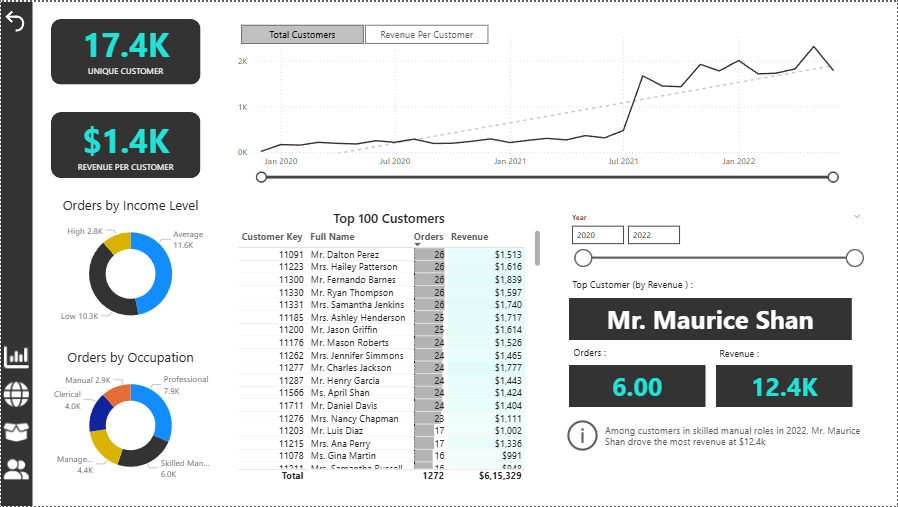

This screenshot's page, from the dashboard's own definition file:
{"tool":"powerbi","page":{"name":"Customer Detail","canvas":[1280,720],"ordinal":3},"visuals":[{"type":"shape","box":[0,0,45,720],"z":0},{"type":"actionButton","box":[0,485,61.2,43.8],"z":0,"group":"g1"},{"type":"shape","box":[71.8,24.5,213.6,93.6],"z":1000},{"type":"actionButton","box":[0,538.3,61.2,43.8],"z":1000,"group":"g1"},{"type":"card","fields":{"Values":["Measure Table.Total Customers"]},"box":[58.2,0,239.1,133.6],"z":2000},{"type":"actionButton","box":[0,591.7,61.2,43.8],"z":2000,"group":"g1"},{"type":"lineChart","title":"Yearly Customer","fields":{"Y":["Measure Table.Total Customers"],"Category":["Calendar Lookup.Start of Month.Variation.Date Hierarchy.Year","Calendar Lookup.Start of Month.Variation.Date Hierarchy.Quarter","Calendar Lookup.Start of Month.Variation.Date Hierarchy.Month","Calendar Lookup.Start of Month.Variation.Date Hierarchy.Day"]},"box":[332.5,37.5,885,223.8],"z":3000},{"type":"actionButton","box":[0,645,61.2,43.8],"z":3000,"group":"g1"},{"type":"donutChart","title":"Orders by Income Level","fields":{"Category":["Customer Lookup.Income Level"],"Y":["Measure Table.Total Orders"]},"box":[65,277.5,238.8,197.5],"z":4000},{"type":"donutChart","title":"Orders by Occupation","fields":{"Y":["Measure Table.Total Orders"],"Category":["Customer Lookup.Occupation"]},"box":[66.2,493.8,238.8,196.2],"z":5000},{"type":"tableEx","title":"Top 100 Customers","fields":{"Values":["Customer Lookup.CustomerKey","Customer Lookup.Full Name","Measure Table.Total Orders","Measure Table.Total Revenue"]},"box":[332.9,295.7,442.9,394.3],"z":6000},{"type":"shape","box":[71.8,157.3,213.6,94.5],"z":7000},{"type":"card","fields":{"Values":["Measure Table.Average Revenue Per Customer"]},"box":[52.7,130.9,250.9,146.4],"z":8000},{"type":"card","fields":{"Values":["Measure Table.Full Name (Customer Detail)"]},"box":[811.9,422.9,403.8,60],"z":9000},{"type":"card","fields":{"Values":["Measure Table.Total Orders (Customer Detail)"]},"box":[811.9,518.1,195,60],"z":10000},{"type":"card","fields":{"Values":["Measure Table.Total Revenue (Customer Detail)"]},"box":[1021.4,518.1,195,60],"z":11000},{"type":"textbox","box":[811.9,390.4,195,33.8],"z":12000},{"type":"textbox","box":[812.4,487.1,194,33],"z":13000},{"type":"textbox","box":[1021.4,488.1,195,33],"z":14000},{"type":"slicer","fields":{"Values":["Calendar Lookup.Date.Variation.Date Hierarchy.Year"]},"box":[802.5,296.2,437.5,93.8],"z":15000},{"type":"actionButton","box":[802.9,591.4,452.9,55.7],"z":16000},{"type":"actionButton","box":[0,7.1,44.3,40],"z":17000},{"type":"group","id":"g1","title":"Navigation Buttons","box":[0,485,61.2,203.8],"z":18000},{"type":"slicer","fields":{"Values":["Customer Metric Selection.Customer Metric Selection"]},"box":[317.5,25,402.5,41.2],"z":19001}]}

Visuals, with their boxes on the page's 1280x720 design canvas (x1, y1, x2, y2). These are canvas units, not pixel positions in the 898x507 screenshot, which may show the page scaled, cropped or inside an application window:
shape: select_region(0, 0, 45, 720)
actionButton: select_region(0, 485, 61, 529)
shape: select_region(72, 24, 285, 118)
actionButton: select_region(0, 538, 61, 582)
card - Measure Table.Total Customers: select_region(58, 0, 297, 134)
actionButton: select_region(0, 592, 61, 636)
"Yearly Customer" lineChart: select_region(332, 38, 1218, 261)
actionButton: select_region(0, 645, 61, 689)
"Orders by Income Level" donutChart: select_region(65, 278, 304, 475)
"Orders by Occupation" donutChart: select_region(66, 494, 305, 690)
"Top 100 Customers" tableEx: select_region(333, 296, 776, 690)
shape: select_region(72, 157, 285, 252)
card - Measure Table.Average Revenue Per Customer: select_region(53, 131, 304, 277)
card - Measure Table.Full Name (Customer Detail): select_region(812, 423, 1216, 483)
card - Measure Table.Total Orders (Customer Detail): select_region(812, 518, 1007, 578)
card - Measure Table.Total Revenue (Customer Detail): select_region(1021, 518, 1216, 578)
textbox: select_region(812, 390, 1007, 424)
textbox: select_region(812, 487, 1006, 520)
textbox: select_region(1021, 488, 1216, 521)
slicer - Calendar Lookup.Date.Variation.Date Hierarchy.Year: select_region(802, 296, 1240, 390)
actionButton: select_region(803, 591, 1256, 647)
actionButton: select_region(0, 7, 44, 47)
"Navigation Buttons" group: select_region(0, 485, 61, 689)
slicer - Customer Metric Selection.Customer Metric Selection: select_region(318, 25, 720, 66)
